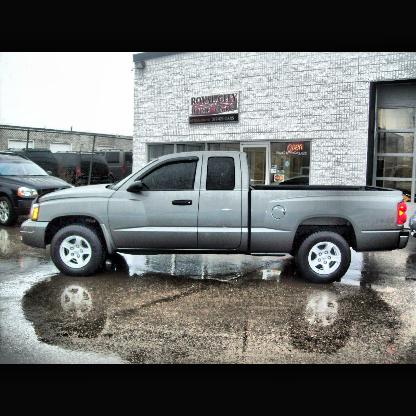Dodge Dakota Club Cab 2007: (19, 150, 412, 287)
